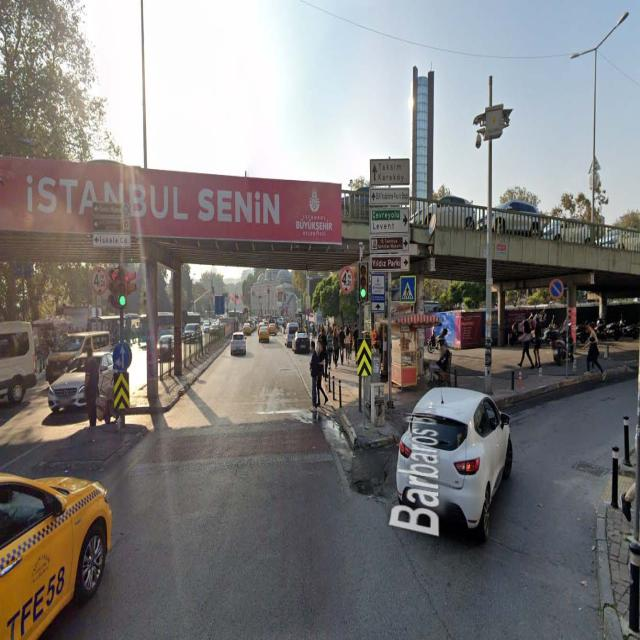ilerisol: (113, 344, 132, 369)
parkyasak: (549, 277, 563, 302)
yesil: (117, 266, 128, 308), (358, 260, 368, 302)
